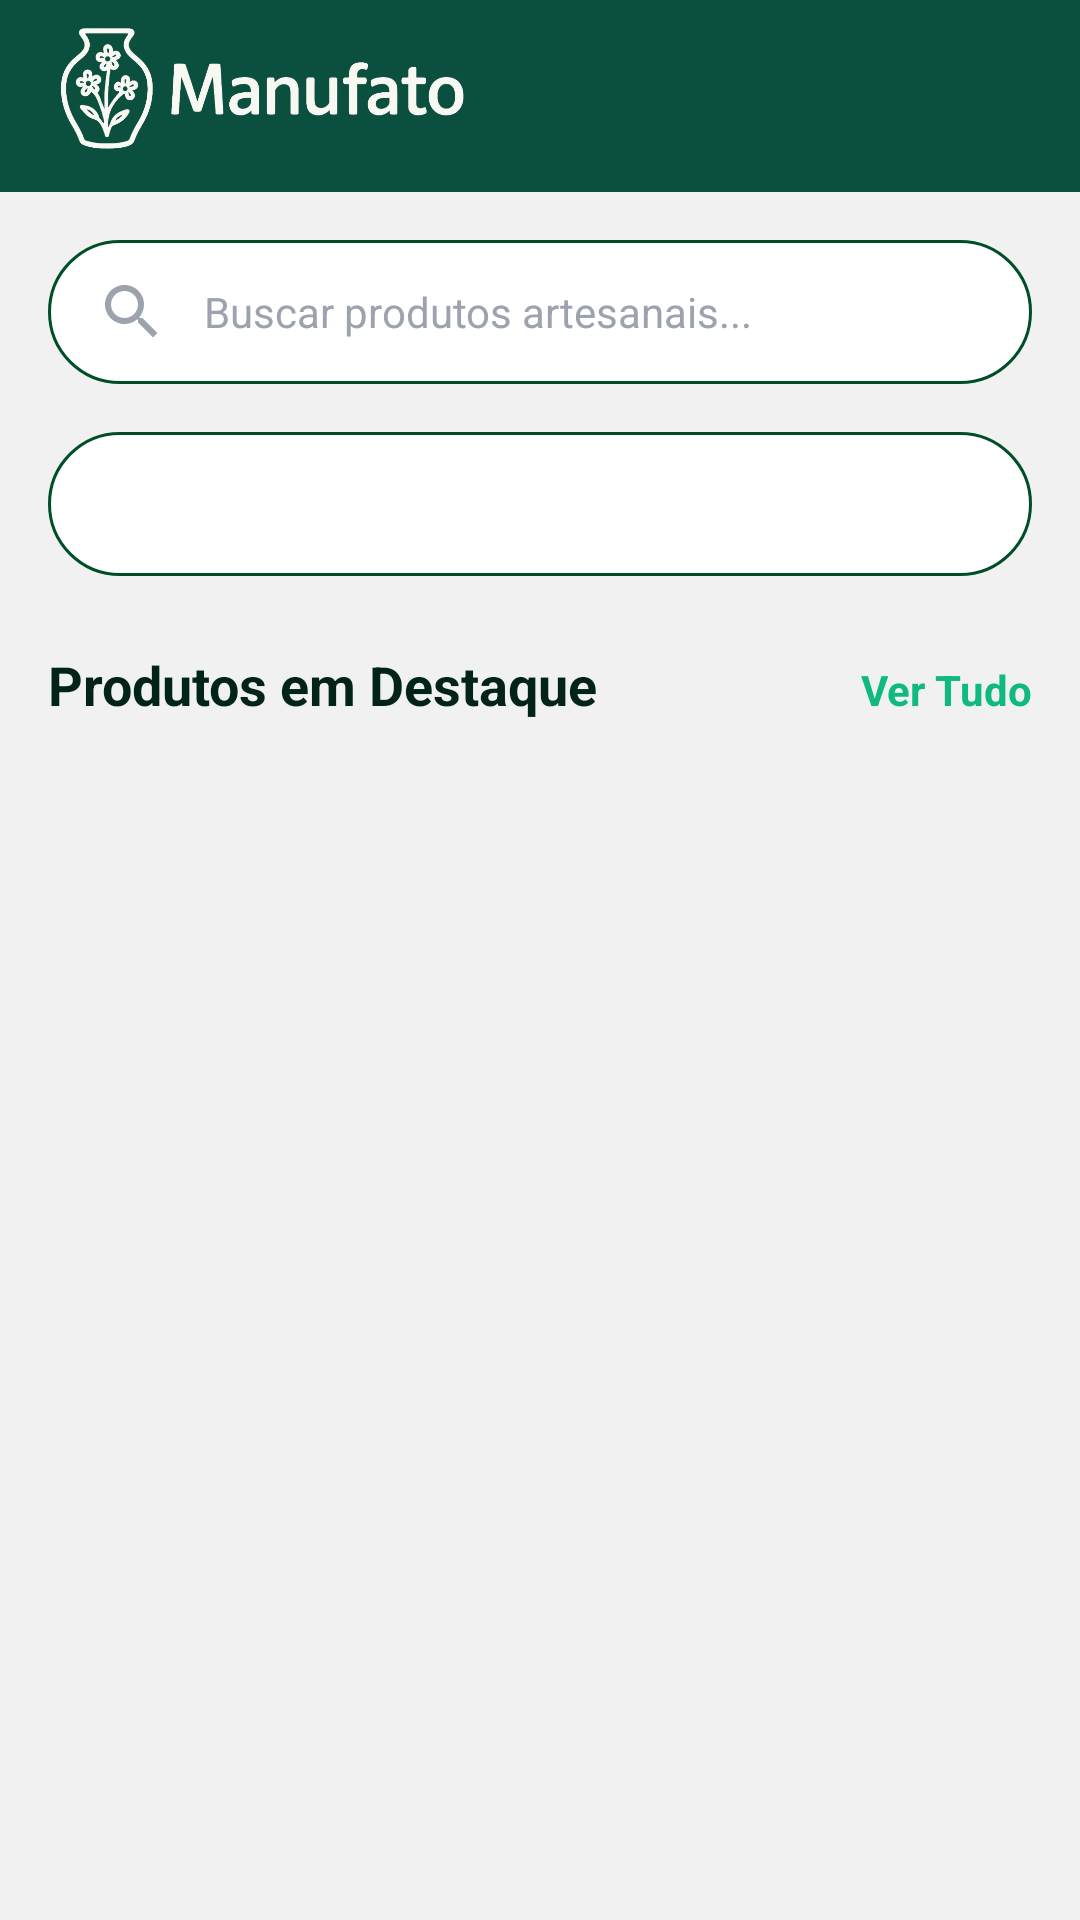

Icon bounding boxes for this 1080w x 1920h phone screenshot, format (x1, y1, x2, y2):
Search icon: (105, 285, 157, 337)
